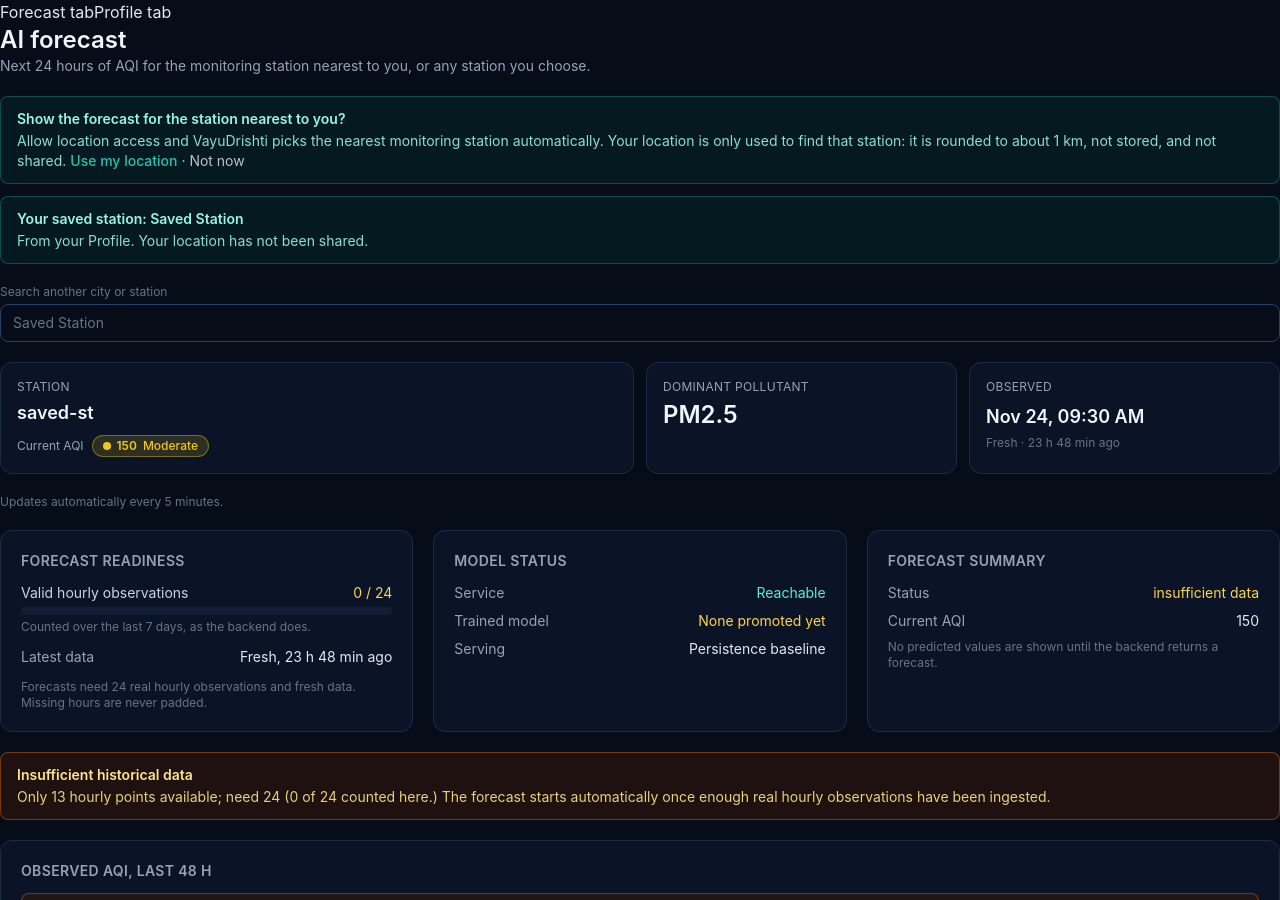
it: location permission across navigation › 2+4+5. "Allow this time" (browser keeps reporting prompt): no banner again after Forecast → Profile → Forecast
Click the button "Use my location".
click(124, 161)  # box [70,151,178,171]
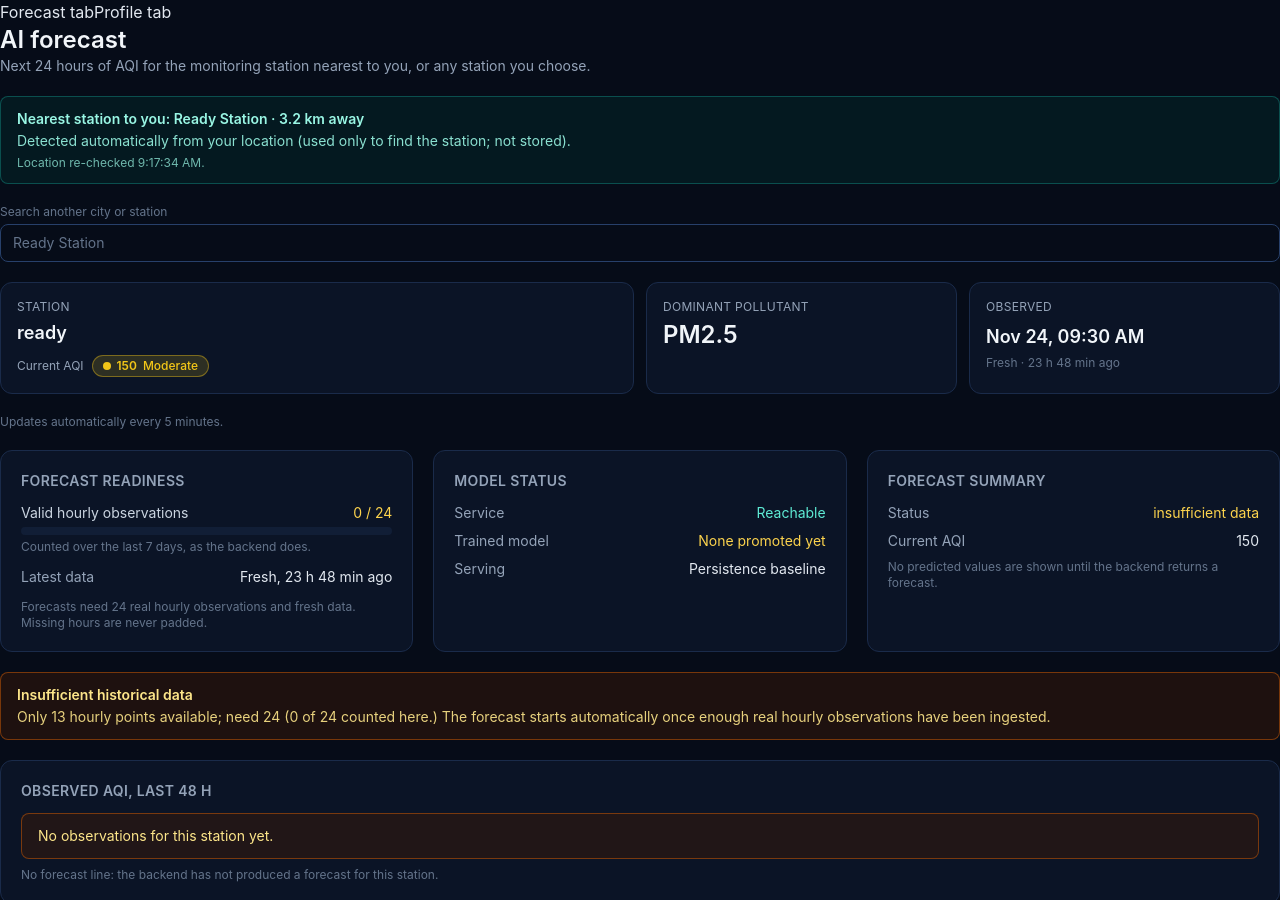
Expected: the text "Nearest station to you: Ready Station · 3.2 km away" is shown, [17,110,364,127]
Click the link "Profile tab".
click(133, 12)  # box [94,2,171,22]
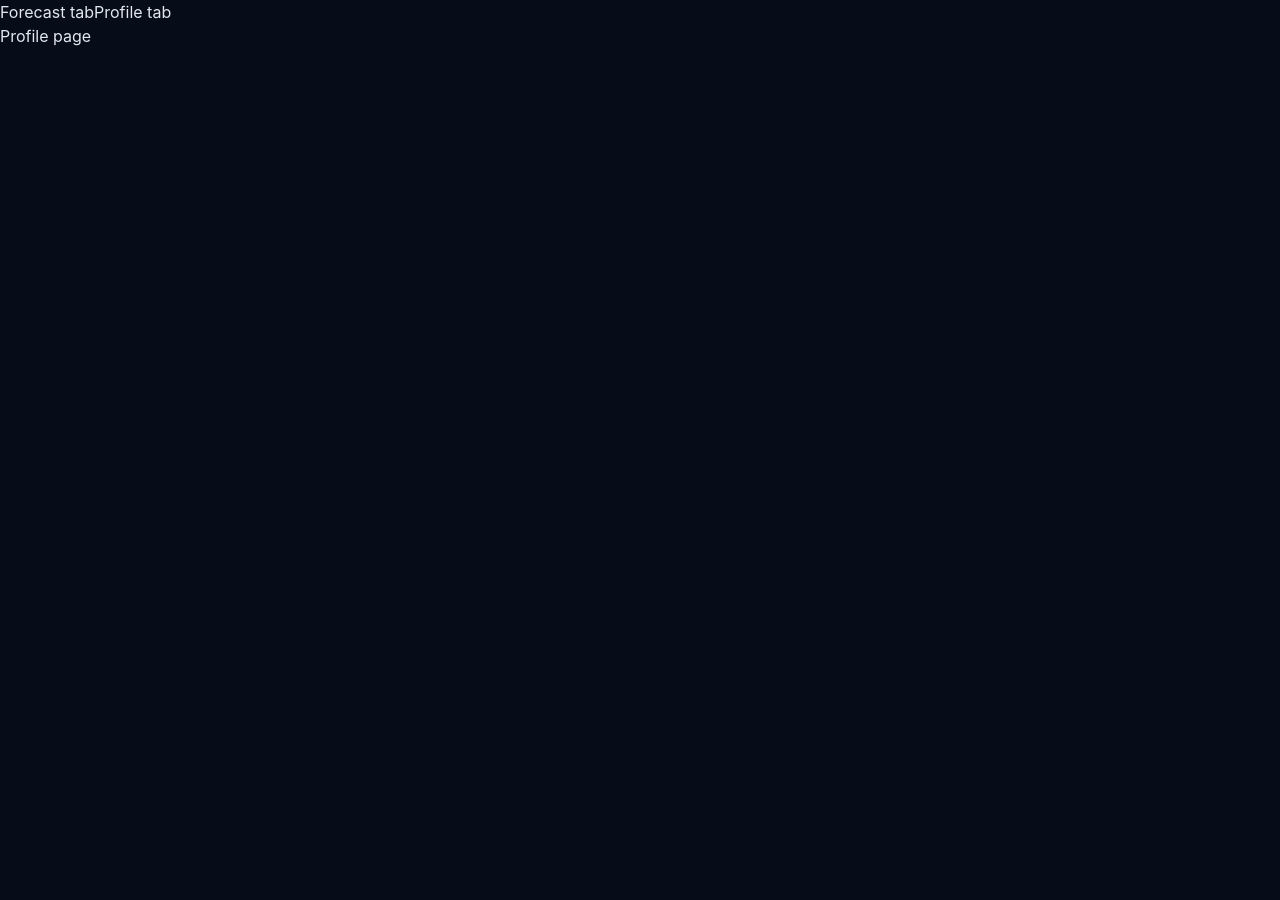
Expected: the text "Profile page" is shown, [0,26,91,46]
Click the link "Forecast tab".
click(47, 12)  # box [0,2,94,22]
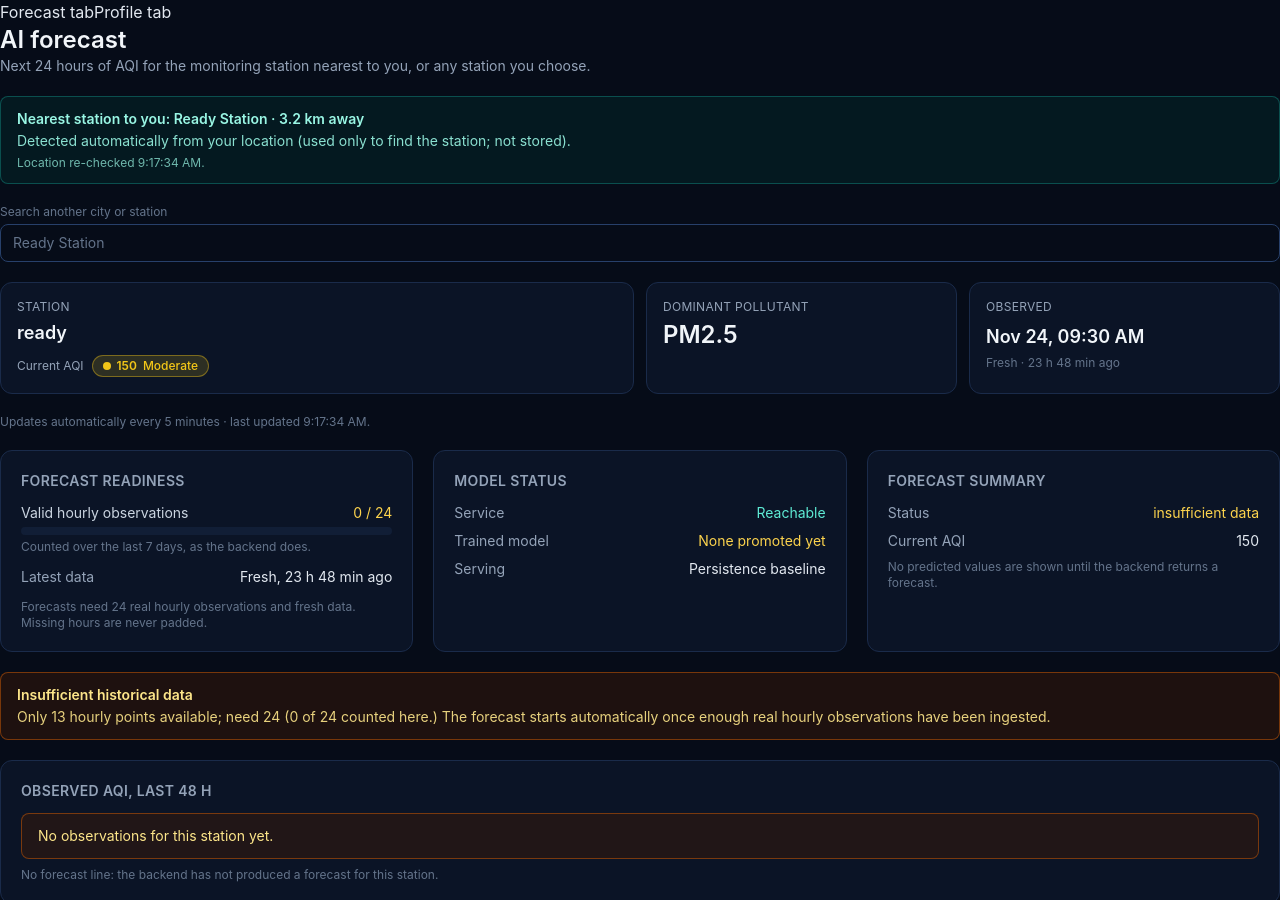
Expected: the text "Show the forecast for the station nearest to you?" is not shown
Expected: the text "Nearest station to you: Ready Station · 3.2 km away" is shown, [17,110,364,127]
